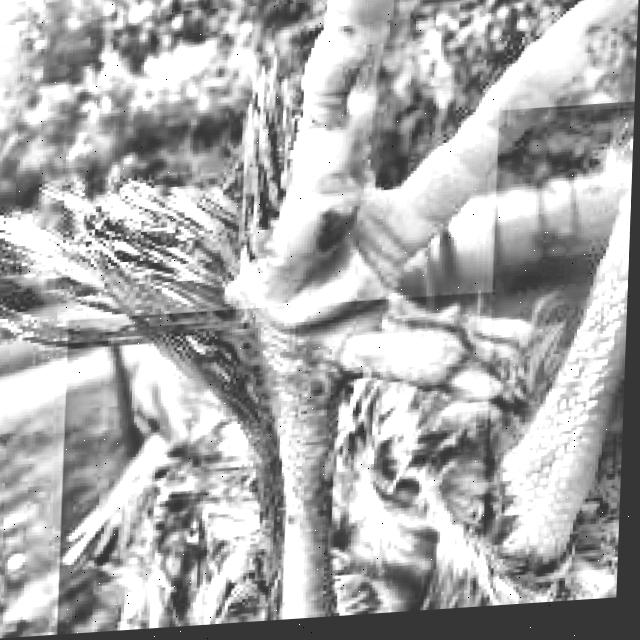Bumble foot: (232, 124, 406, 340)
